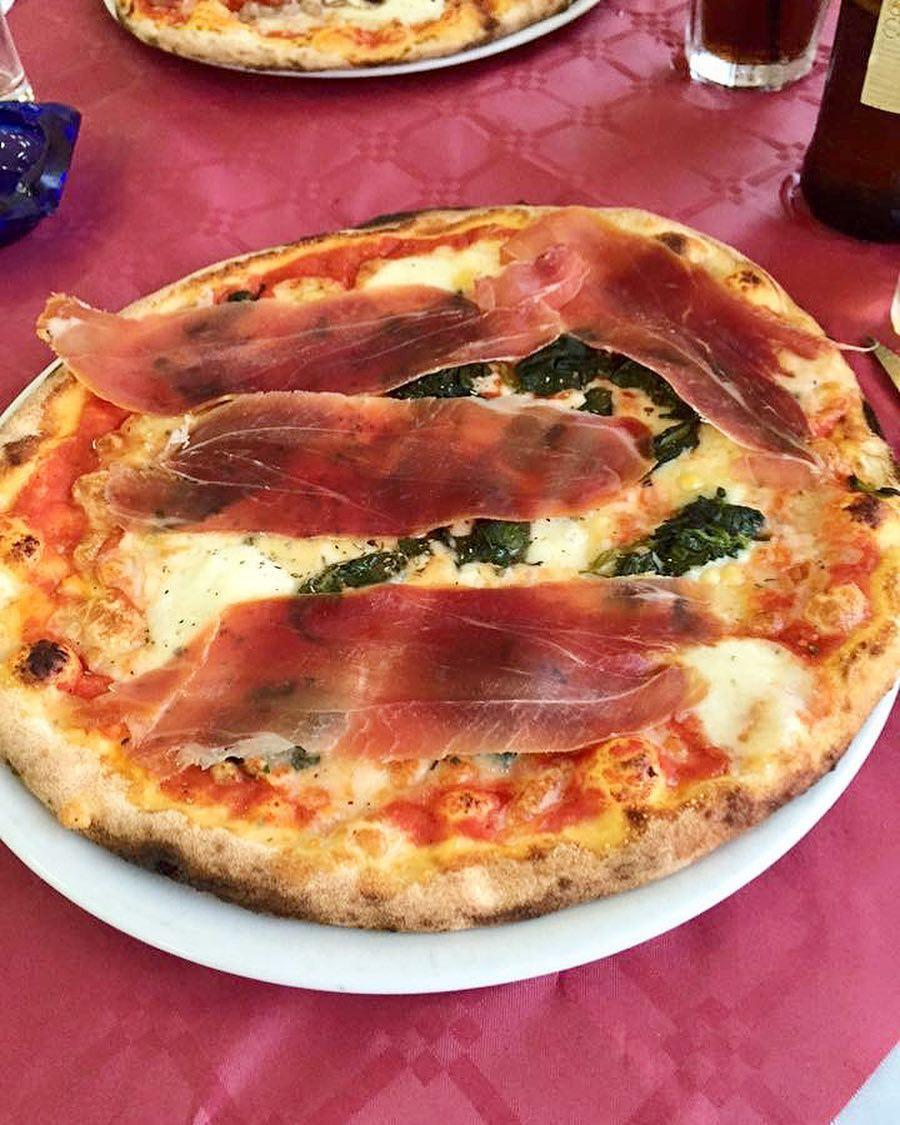Arugula: (511, 326, 706, 483), (279, 509, 544, 604), (578, 489, 779, 579), (377, 349, 498, 406)
Ham: (68, 574, 743, 765), (493, 200, 830, 483), (90, 387, 669, 541), (25, 278, 572, 410)
Pizza: (0, 198, 900, 942), (98, 0, 607, 78)
